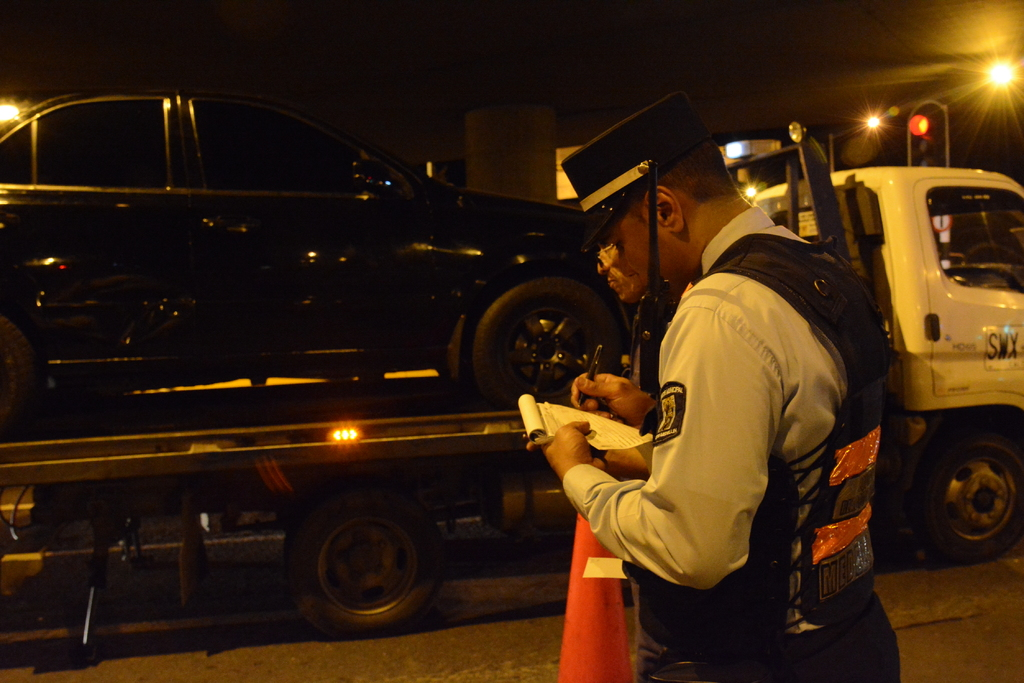Car: (0, 84, 656, 445)
